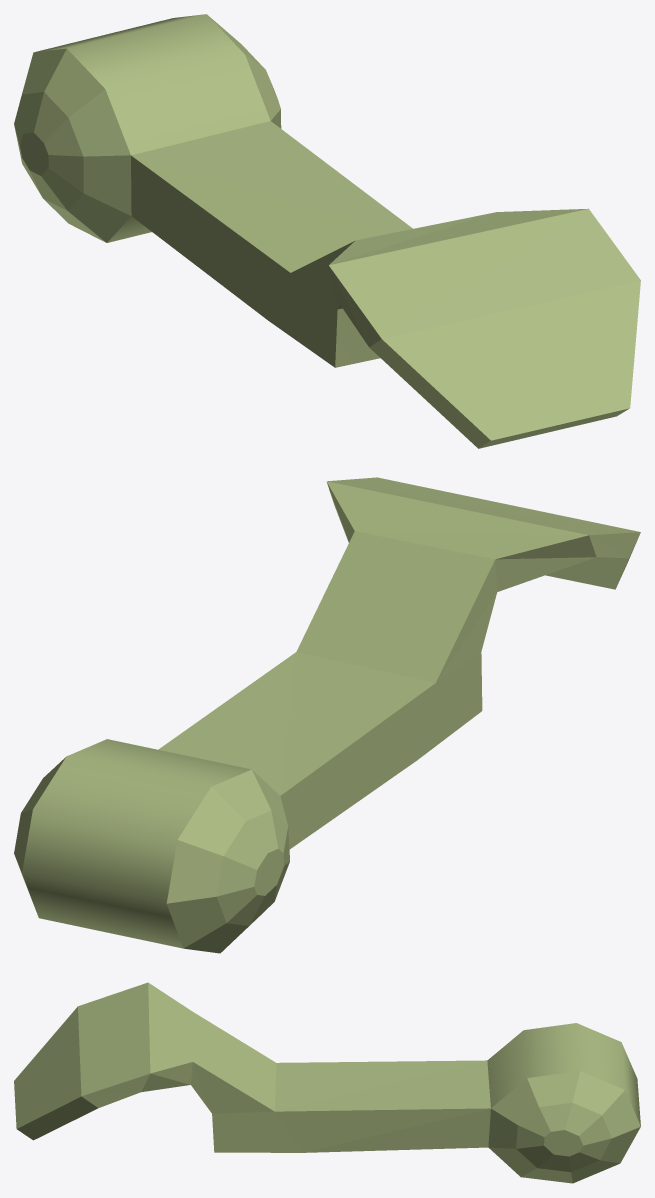
File: SpiderLegLeftBackA.FBX
3 renders of one model, top to bottom at view 1: azimuth 30°, elevation 25°; view 2: azimuth 150°, elevation 25°; view 3: azimuth 270°, elevation 25°, orthographic. The views are drawn at different scales.
Parts seen in each view (by area): view 1: SpiderLegLeftBackA; view 2: SpiderLegLeftBackA; view 3: SpiderLegLeftBackA.
Part boxes in pixels (x1,y1,x2,y2): SpiderLegLeftBackA: (14, 14, 640, 448); SpiderLegLeftBackA: (14, 477, 640, 953); SpiderLegLeftBackA: (14, 982, 640, 1183).
Size of the model in its own units: 89.11 by 275 by 66.29.
